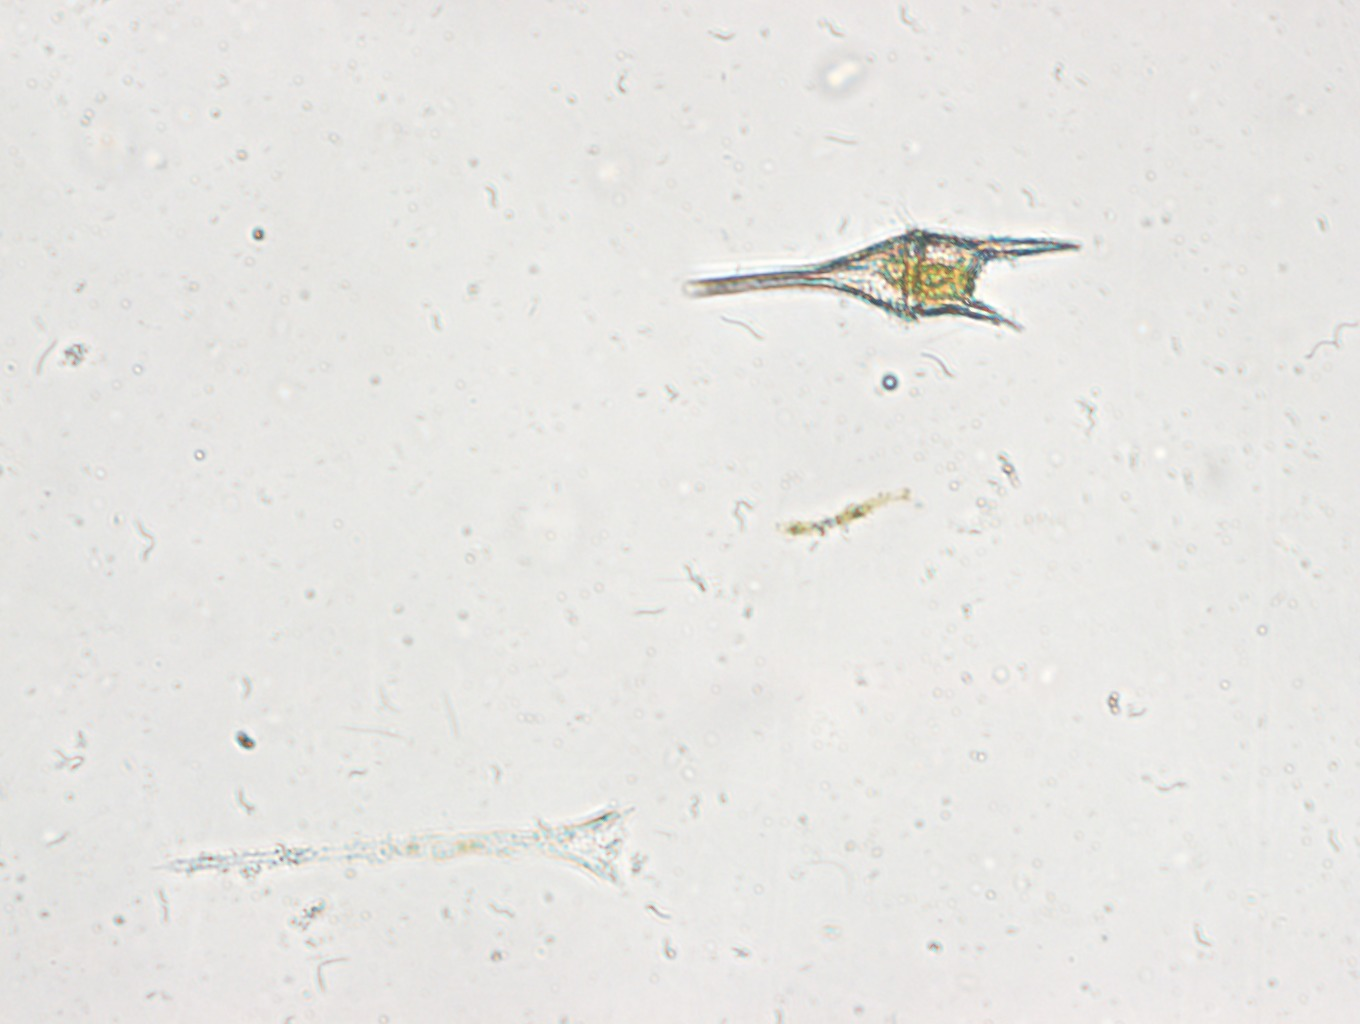ceratium furca: (678, 222, 1085, 336)
